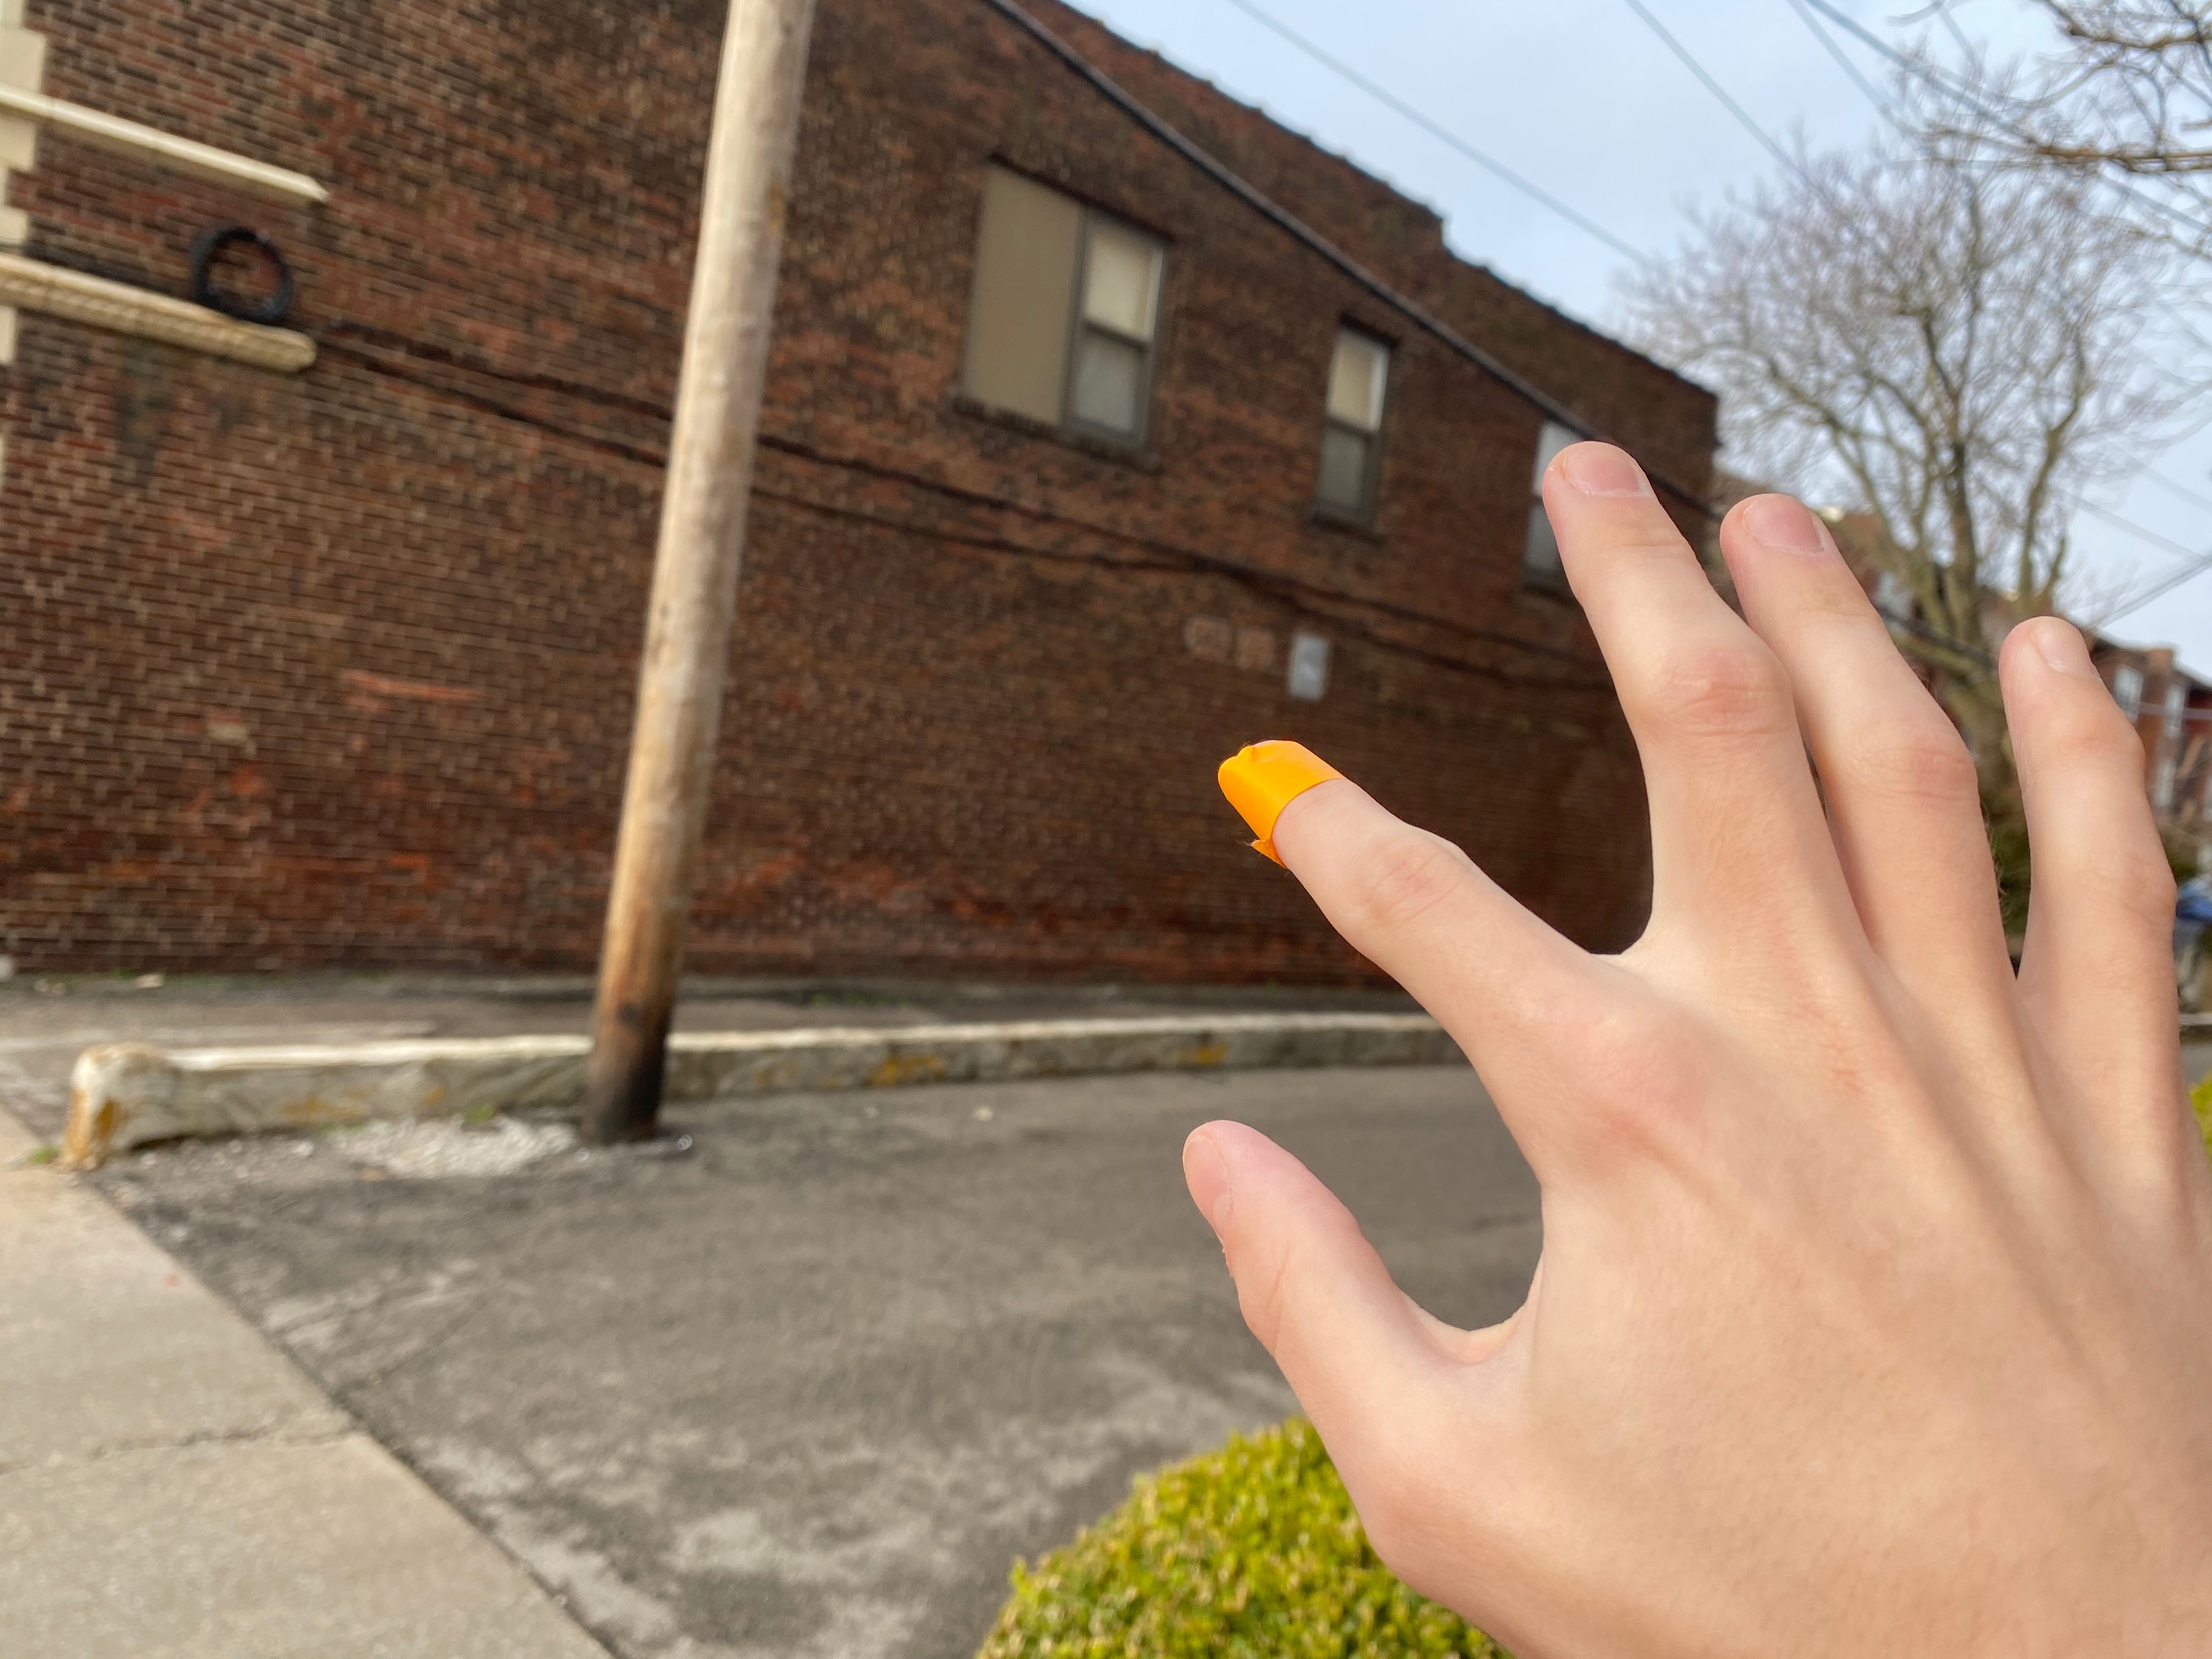fingertip: (1193, 730, 1366, 873)
